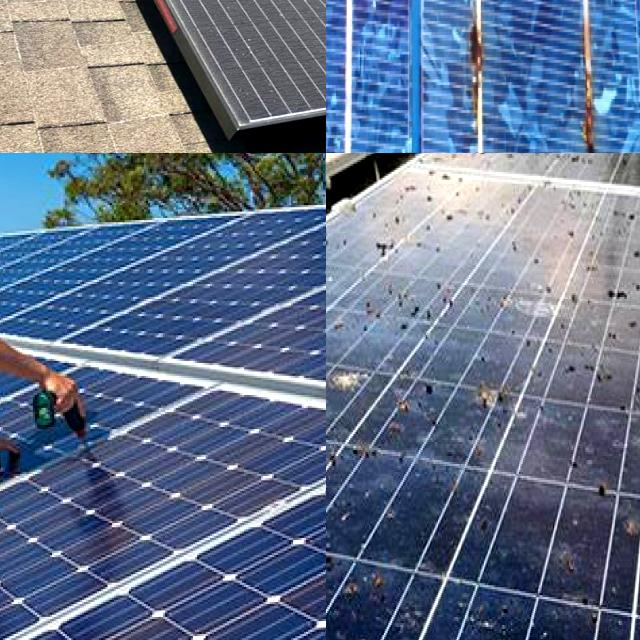bird: (552, 227, 640, 352), (362, 210, 455, 314), (458, 313, 520, 461), (326, 339, 413, 435), (326, 522, 394, 634), (586, 437, 640, 540), (558, 353, 628, 389), (326, 434, 361, 475)
crack: (0, 183, 326, 640)
dust: (146, 0, 289, 66), (237, 0, 326, 92), (66, 0, 211, 48), (17, 0, 141, 31), (254, 0, 326, 34), (163, 0, 295, 17)
shadow: (432, 0, 509, 119), (575, 7, 632, 153)
